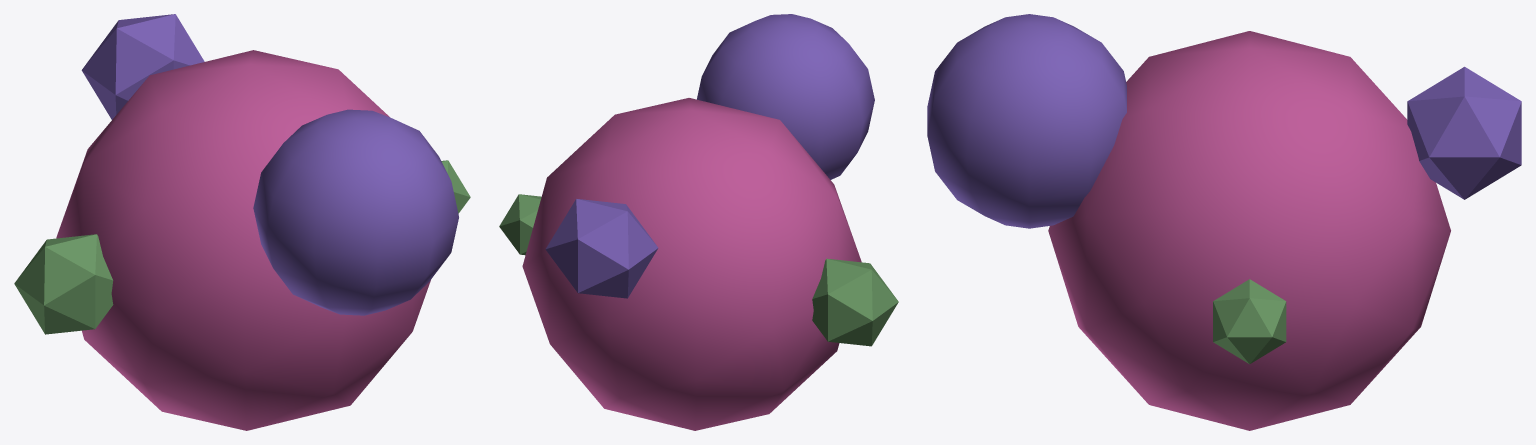
Rendered from fairy_sprite.glb.
3 renders of one model, left to right at view 1: azimuth 30°, elevation 25°; view 2: azimuth 150°, elevation 25°; view 3: azimuth 270°, elevation 25°, orthographic. The views are drawn at different scales.
Parts seen in each view (by area): view 1: body_core, head_core, orb_2, orb_3, orb_0; view 2: body_core, head_core, orb_3, orb_2, orb_0; view 3: body_core, head_core, orb_3, orb_0.
Part boxes in pixels (bbox=[...]): body_core: bbox=[56, 50, 430, 430]; head_core: bbox=[253, 109, 458, 315]; orb_2: bbox=[14, 234, 113, 334]; orb_3: bbox=[81, 14, 204, 119]; orb_0: bbox=[441, 160, 470, 213]; body_core: bbox=[522, 98, 861, 430]; head_core: bbox=[697, 14, 874, 179]; orb_3: bbox=[545, 199, 658, 298]; orb_2: bbox=[812, 258, 898, 346]; orb_0: bbox=[499, 194, 541, 255]; body_core: bbox=[1048, 31, 1450, 430]; head_core: bbox=[927, 14, 1126, 228]; orb_3: bbox=[1407, 66, 1521, 199]; orb_0: bbox=[1213, 279, 1286, 364].
Size of what is drawn, in the model's own units: 1.92 by 1.6 by 2.21.
